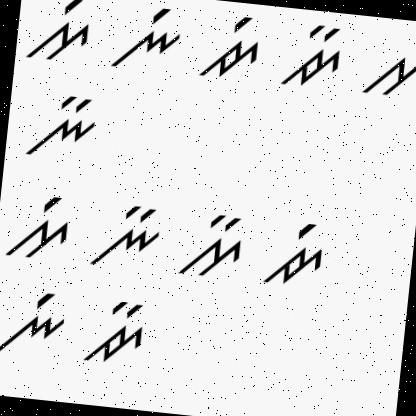jan: (79, 289, 150, 372), (278, 17, 350, 92)
jang: (262, 212, 336, 292), (196, 8, 265, 86)
nyan: (25, 87, 104, 163), (89, 198, 164, 276)
nyang: (108, 1, 186, 78), (0, 281, 71, 363)
sa: (359, 40, 416, 105)
san: (167, 204, 248, 286)
sang: (0, 187, 74, 265), (20, 0, 98, 67)
